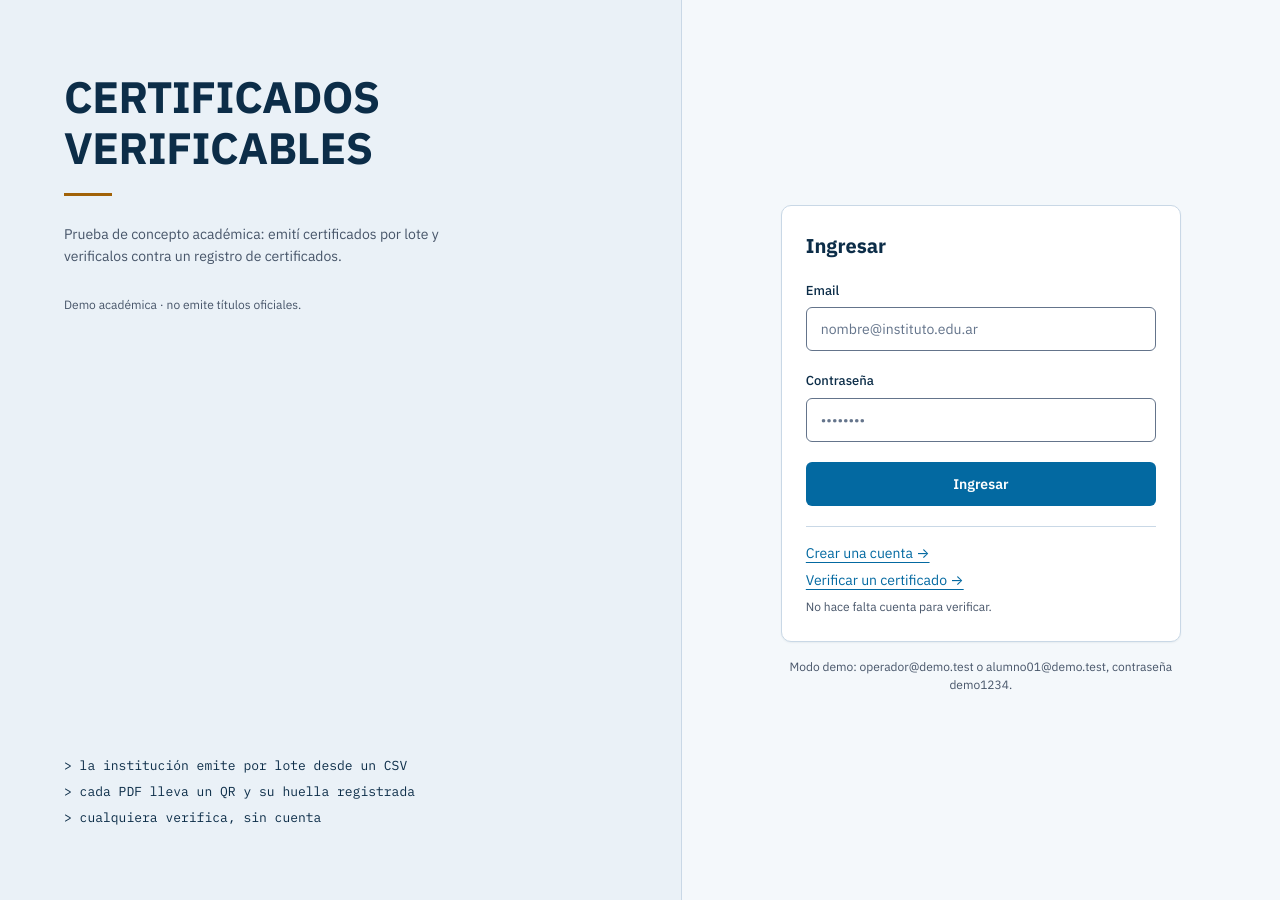
Test: login › sin conexión muestra un mensaje de red
Type "operador@demo.test" into the field labelled "Email" at (981, 329), box x1=806 y1=307 x2=1156 y2=351
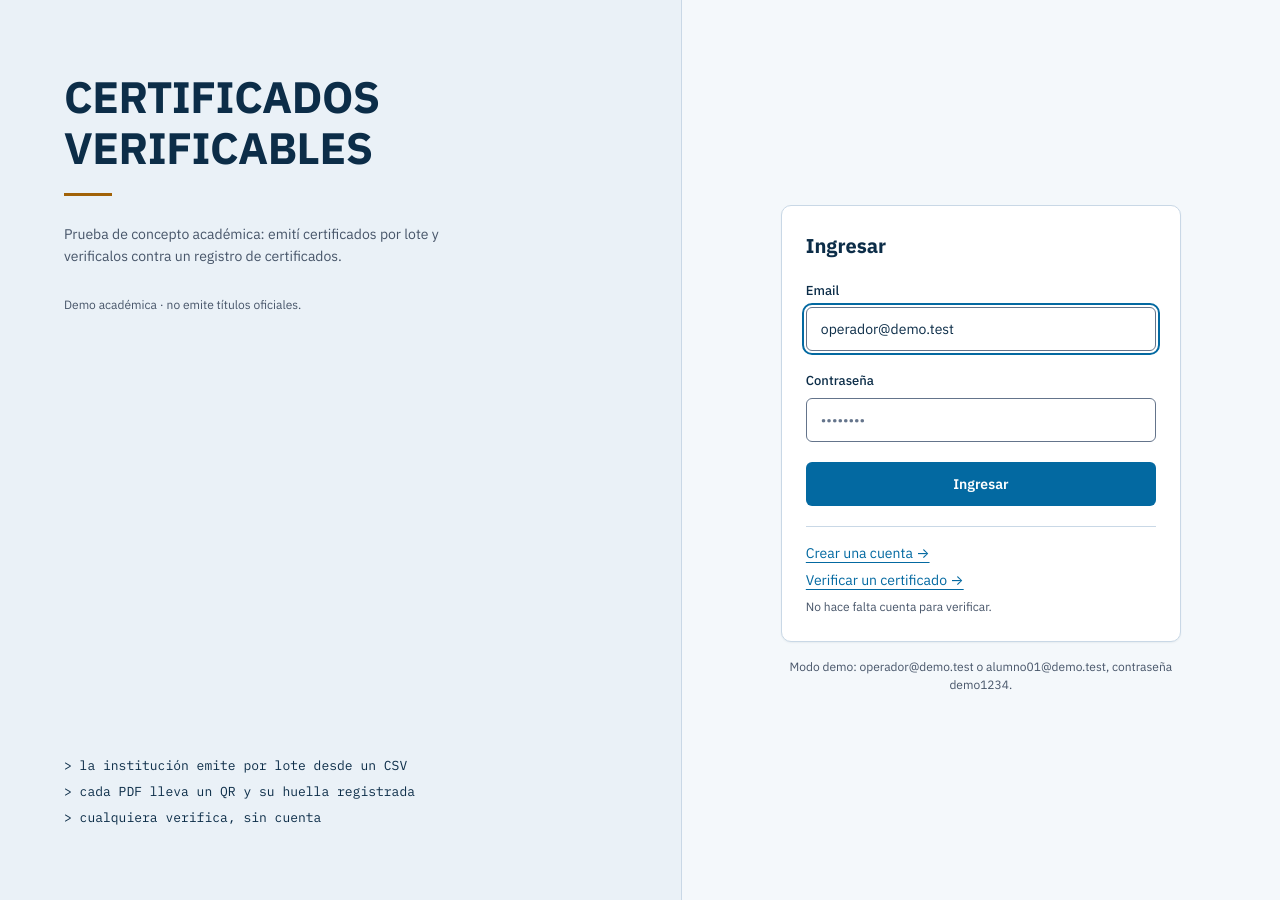
Type "demo1234" into the password field labelled "Contraseña" at (981, 420), box x1=806 y1=398 x2=1156 y2=442
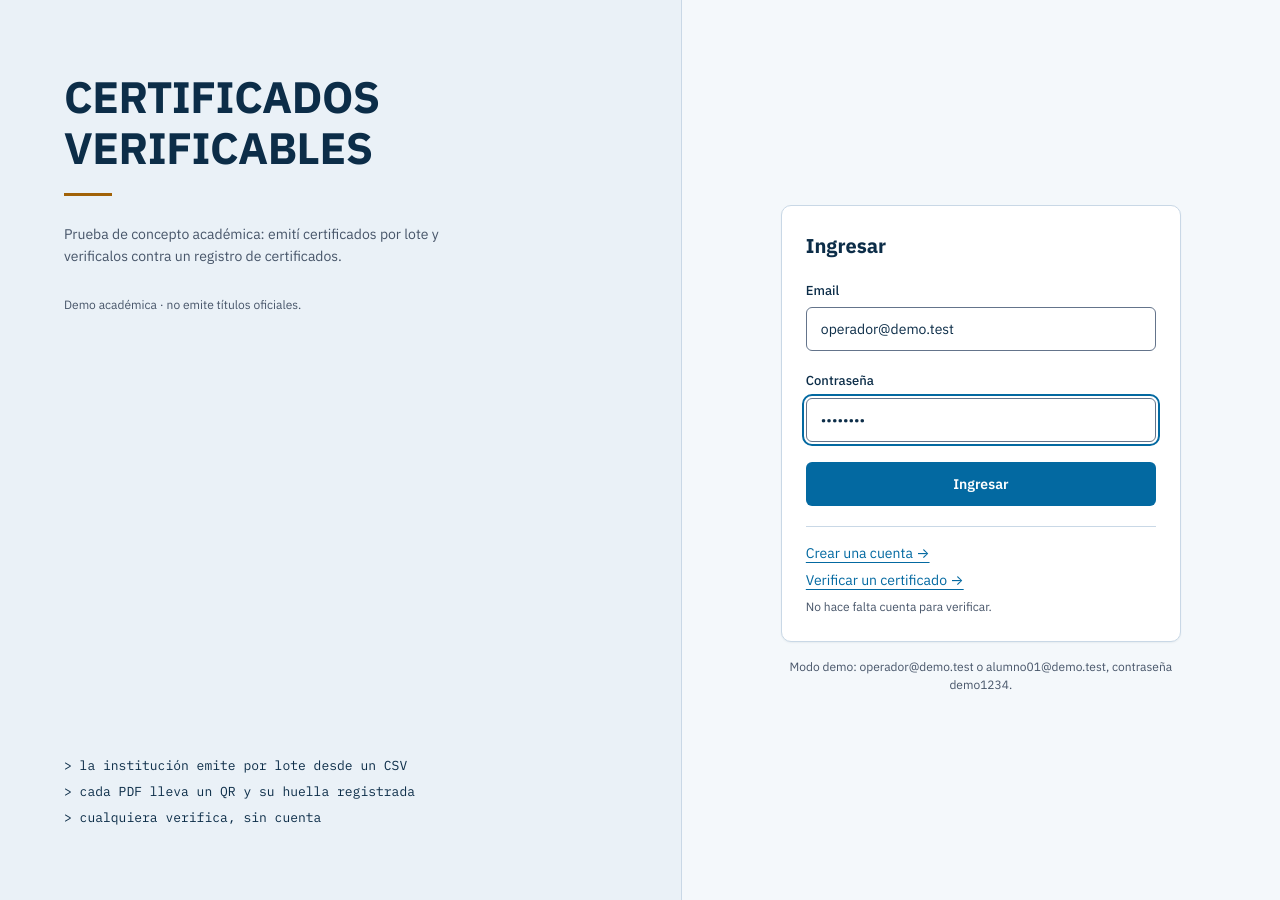
Click the button "Ingresar" at (981, 484), box x1=806 y1=462 x2=1156 y2=506
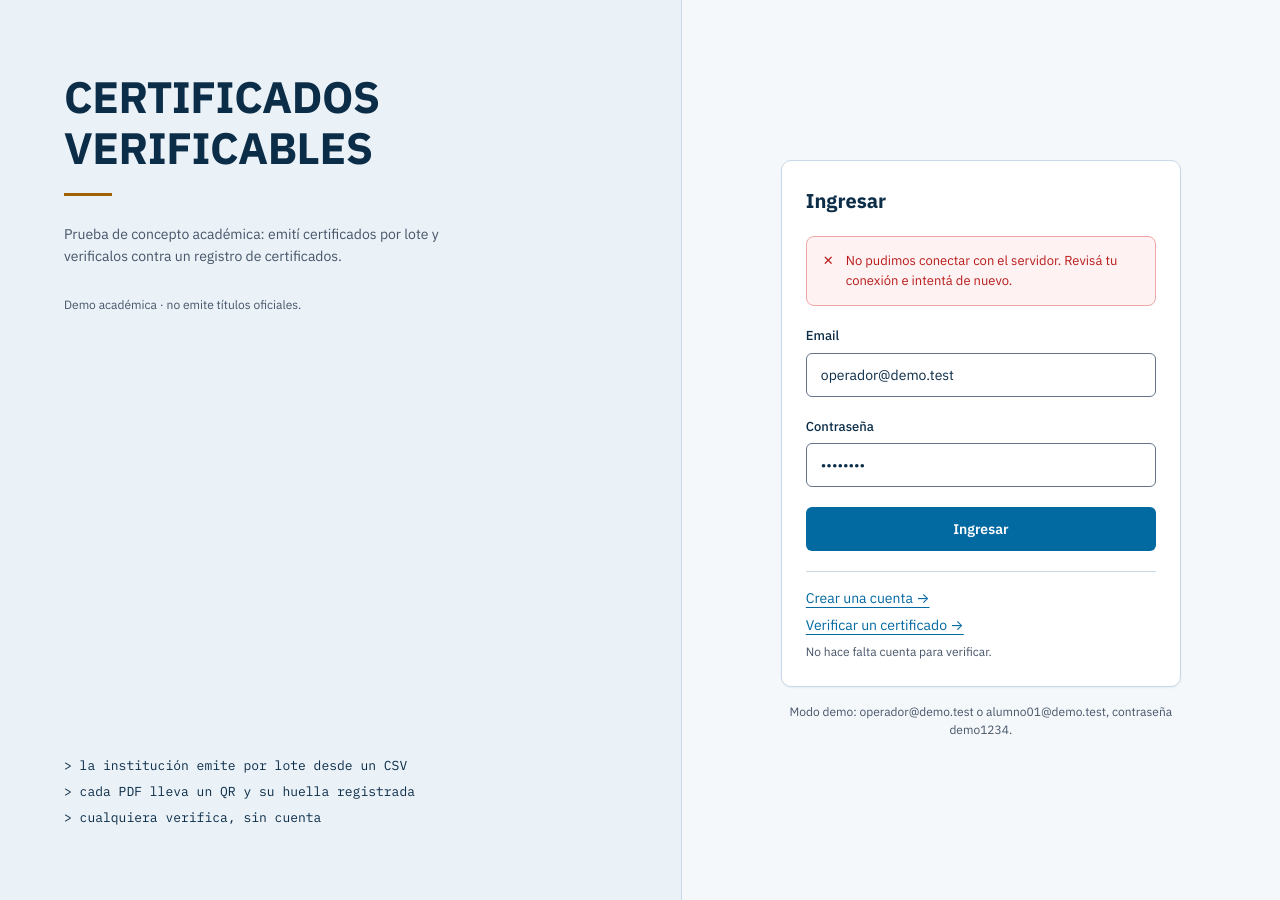
Expected: the message shows "No pudimos conectar", x1=846 y1=252 x2=1117 y2=289
